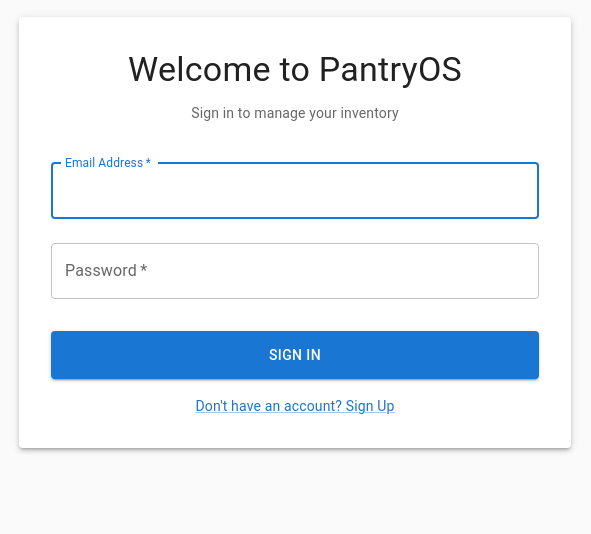
Test: Login Component › form submission › should show error message when login fails
Type "test@example.com" into the field labelled "Email Address *".
click(295, 191); type("test@example.com")  # box [51,163,539,219]
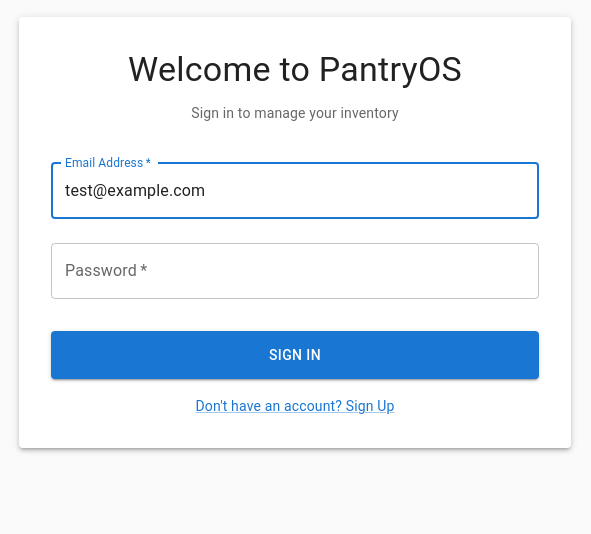
Type "password123" into the password field labelled "Password *".
click(295, 271); type("password123")  # box [51,243,539,299]
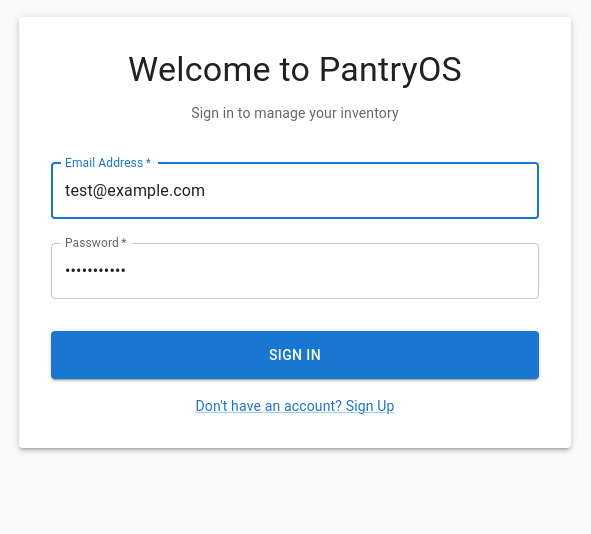
Click the button "Sign In".
click(295, 355)  # box [51,331,539,379]
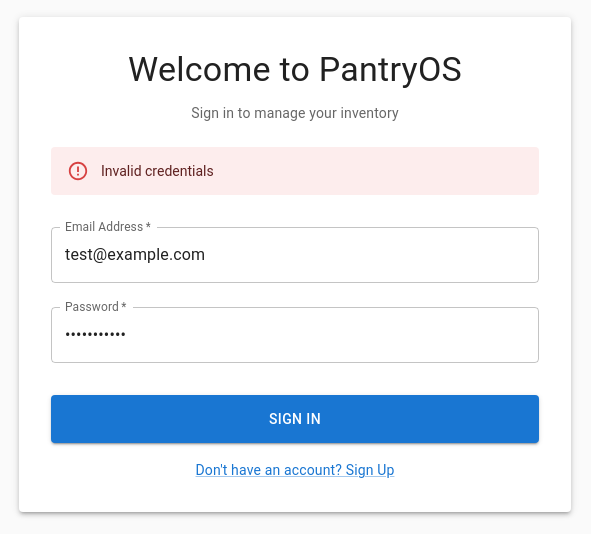
Expected: the text "Invalid credentials" is shown, [101,163,214,179]
